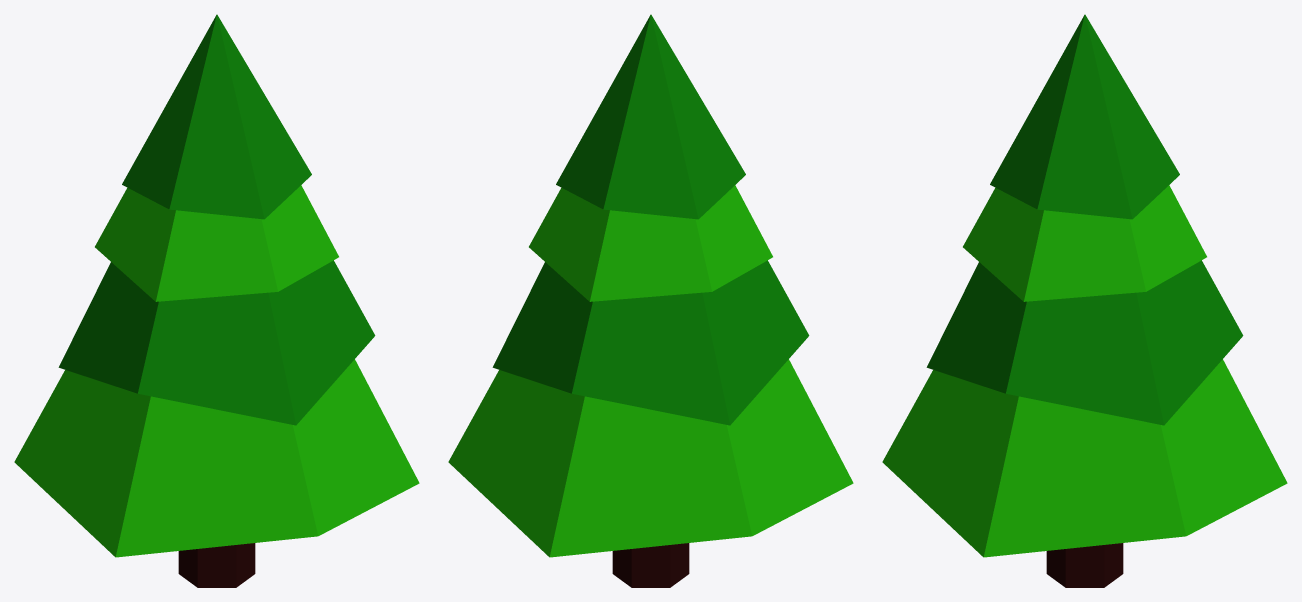
File: Tree 1.fbx
3 renders of one model, left to right at view 1: azimuth 30°, elevation 25°; view 2: azimuth 150°, elevation 25°; view 3: azimuth 270°, elevation 25°, orthographic.
Visible parts, largest first — view 1: Cone; view 2: Cone; view 3: Cone.
Part boxes in pixels (x1,y1,x2,y2): Cone: (14, 14, 419, 587); Cone: (448, 14, 853, 587); Cone: (882, 14, 1287, 587).
Size of the model in its own units: 1.73 by 3.05 by 2.
